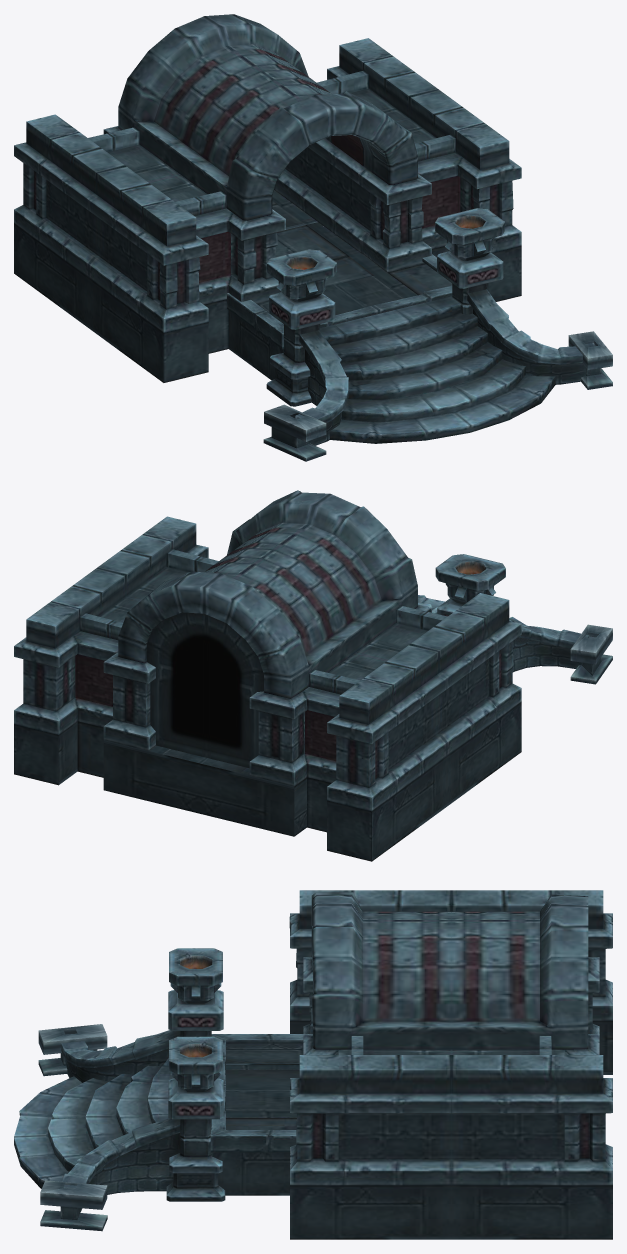
File: Entrance.fbx
The picture shows the model from 3 angles, top to bottom: view 1: azimuth 30°, elevation 25°; view 2: azimuth 150°, elevation 25°; view 3: azimuth 270°, elevation 25°; orthographic projection. The views are drawn at different scales.
Parts seen in each view (by area): view 1: entrance; view 2: entrance; view 3: entrance.
Boxes of the visible parts, x1,y1,x2,y2 form: entrance: (14,14,612,461); entrance: (14,490,612,861); entrance: (14,890,612,1239).
Size of the model in its own units: 623 by 370 by 834.
